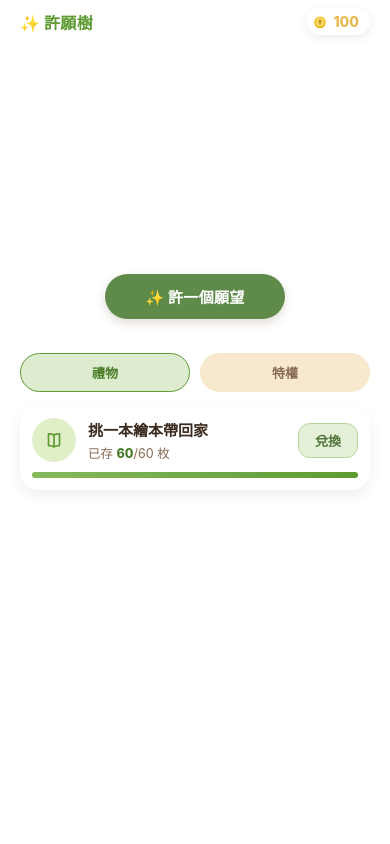
Test: WishScreen redeem flow › shows an inline error in the confirmation modal when redeem fails
Click the element with test id "redeem-button-wish-1" at (328, 440), box [298,422,358,458]
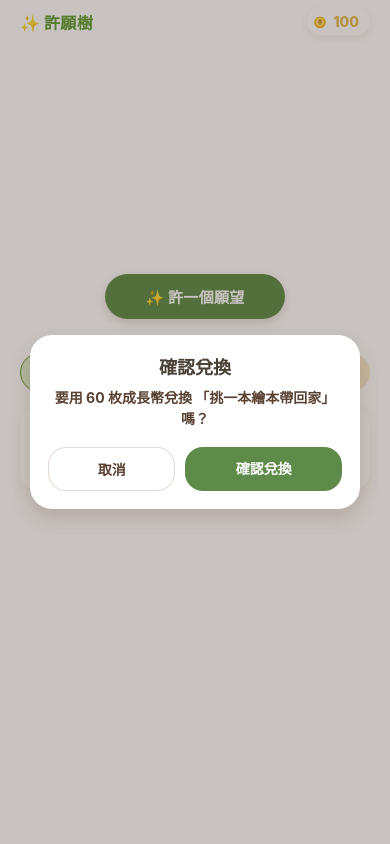
Click the element with test id "redeem-confirm-button" at (264, 469), box [185,447,342,491]
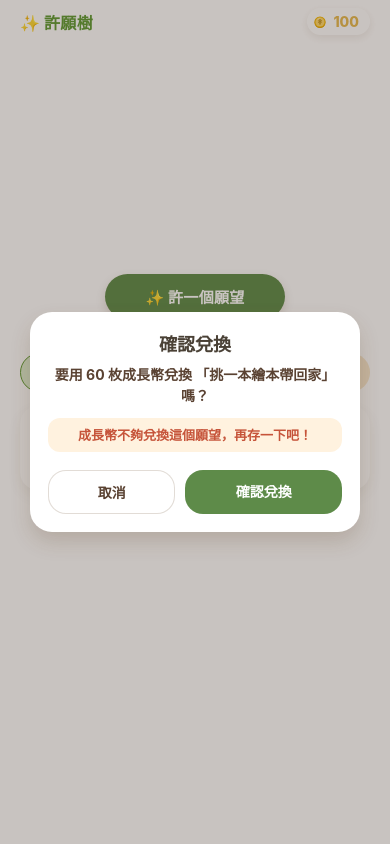
Now the text "成長幣不夠兌換這個願望，再存一下吧！" is shown, box [48,418,342,452]
